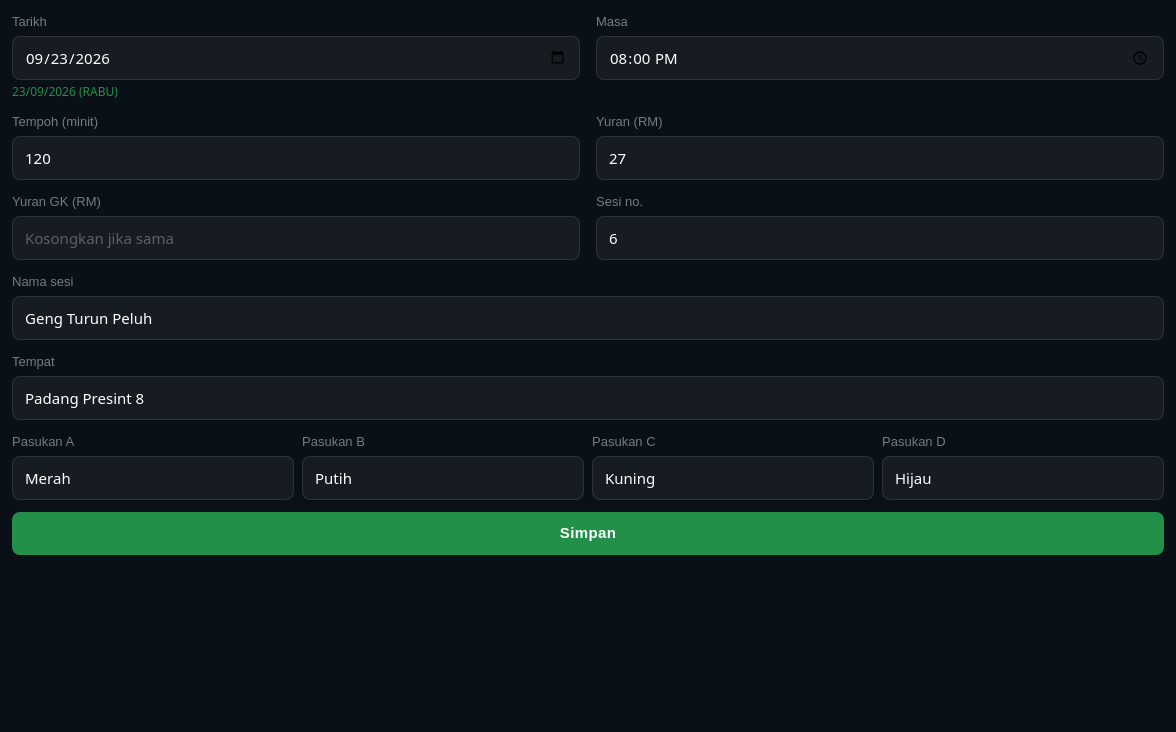
Test: SessionForm › refuses two teams with the same name
The width and height of the screenshot is (1176, 732).
Replace the text in the field labelled "Pasukan B" with "merah " at (443, 478), box [302, 456, 584, 500]
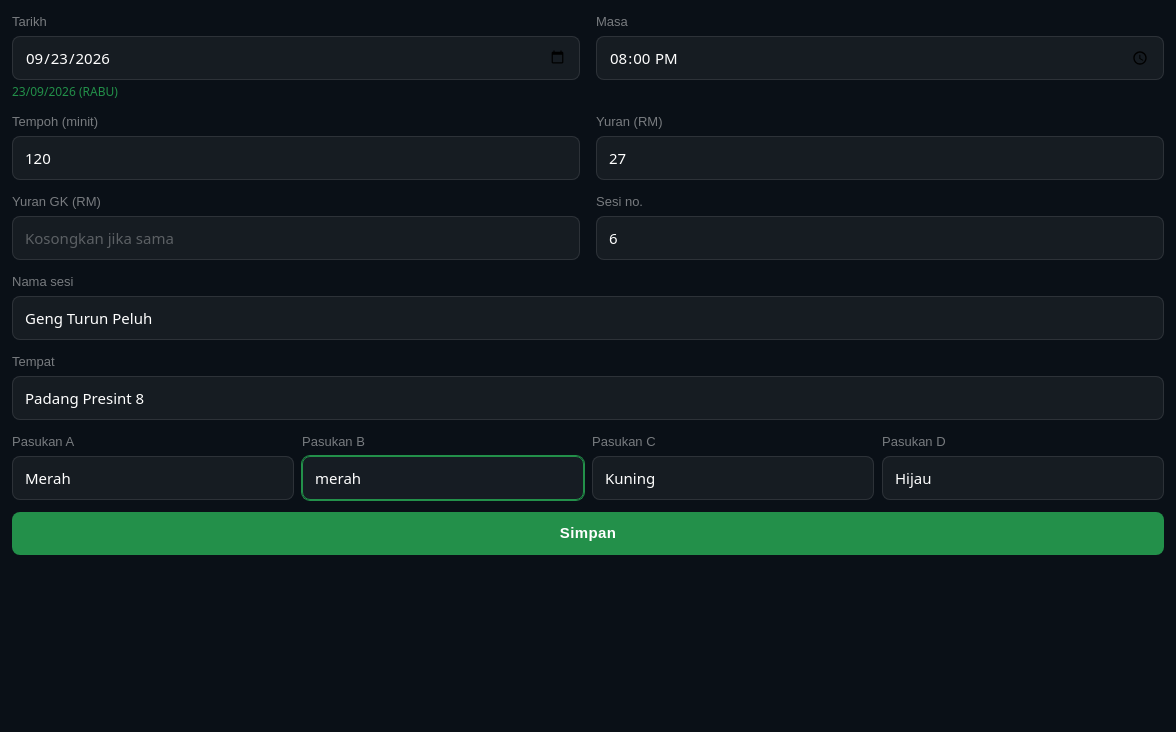
Click the button "Simpan" at (588, 533), box [12, 512, 1164, 554]
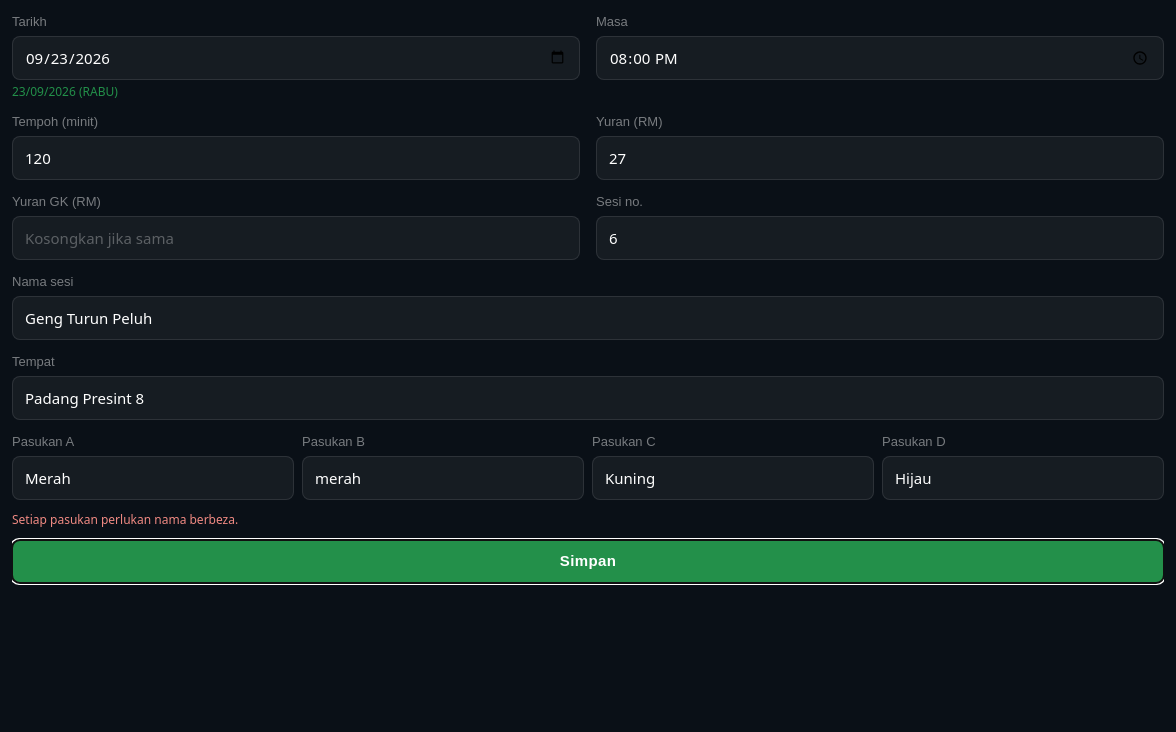
Result: the text "Setiap pasukan perlukan nama berbeza." is shown at [12, 511, 238, 528]
